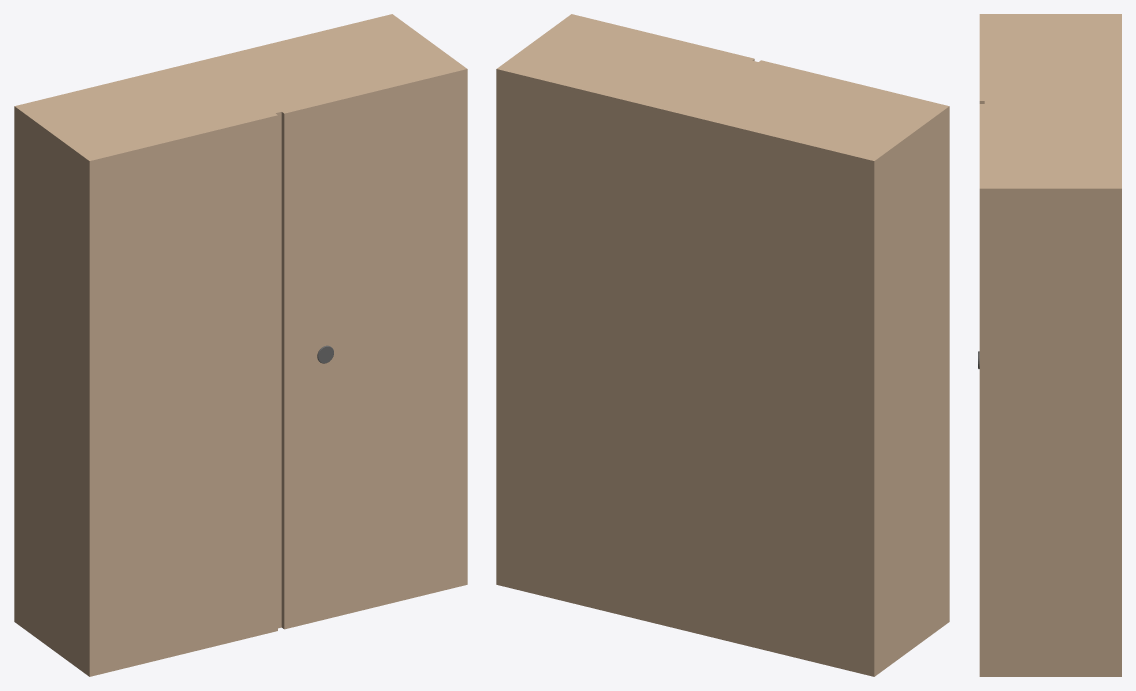
Rendered from armoire.fbx.
The picture shows the model from 3 angles, left to right: view 1: azimuth 30°, elevation 25°; view 2: azimuth 150°, elevation 25°; view 3: azimuth 270°, elevation 25°; orthographic projection. The views are drawn at different scales.
Visible parts, largest first — view 1: pCube1; view 2: pCube1; view 3: pCube1.
Part boxes in pixels (box(x1,y1,x2,y2)): pCube1: box(14, 14, 467, 676); pCube1: box(496, 14, 949, 676); pCube1: box(979, 14, 1121, 676).
Bounding box in the file's own units: 3.12 × 4.07 × 1.09.
